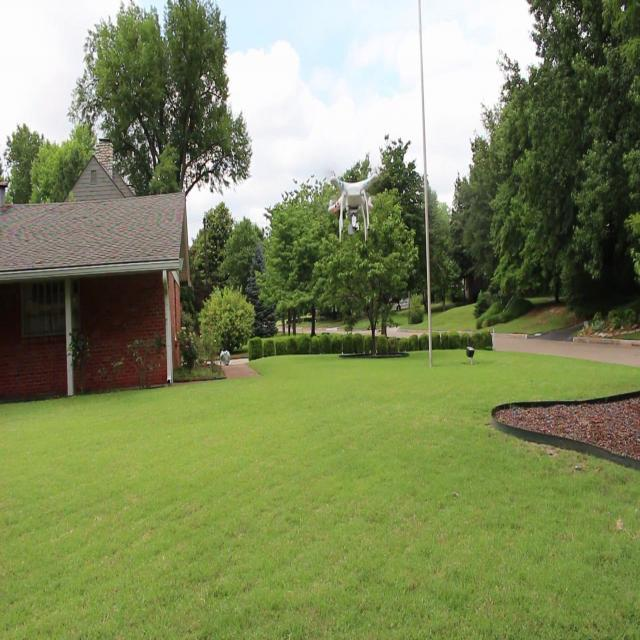drone: (322, 164, 382, 244)
